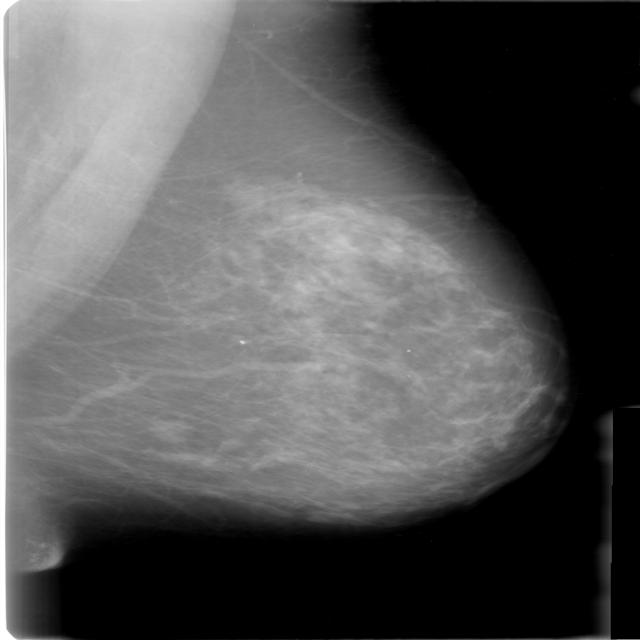normal: (0, 0, 562, 530)
